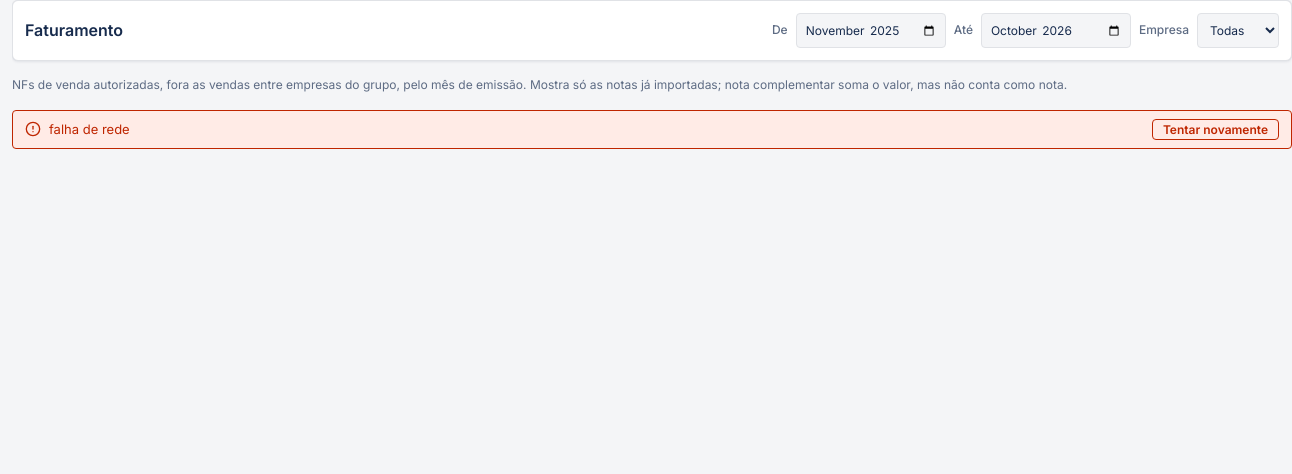
Faturamento › mostra o erro com nova tentativa
This screenshot has width=1292, height=474.
Expected: the text "falha de rede" is shown, [49,120,130,138]
Click the button "Tentar novamente". click: (1215, 129)
box: [1152,119,1279,140]
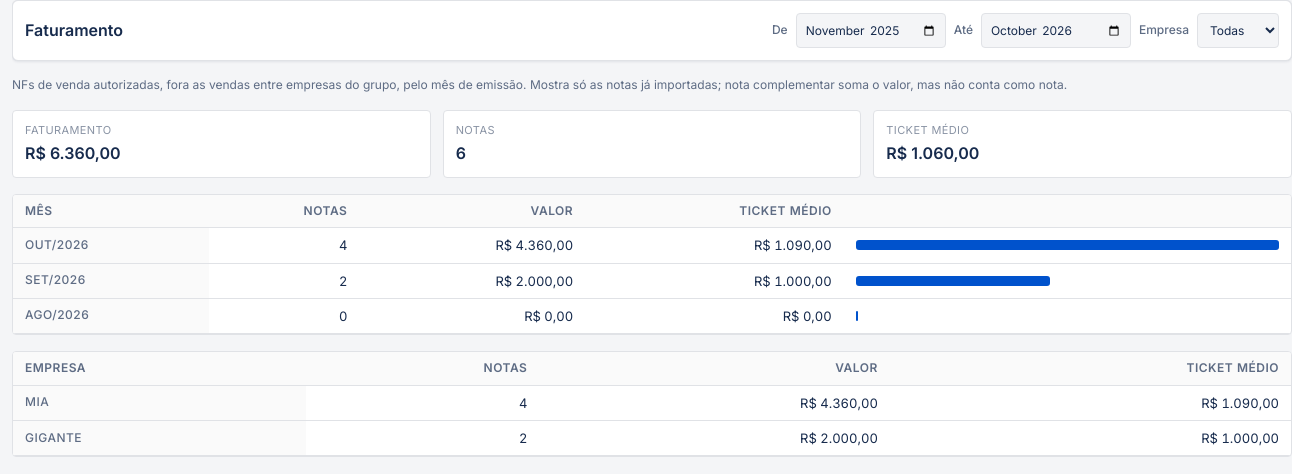
Now the table named "Faturamento por mês" is shown, box [13,195,1291,334]
